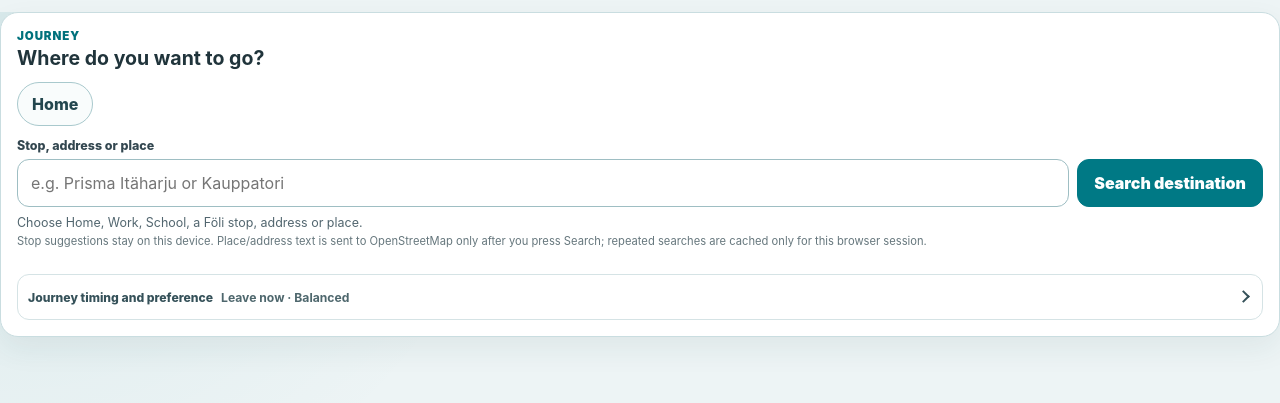
requires a destination value
Click the button "Search destination" at (1170, 183), box [1077,159,1263,207]
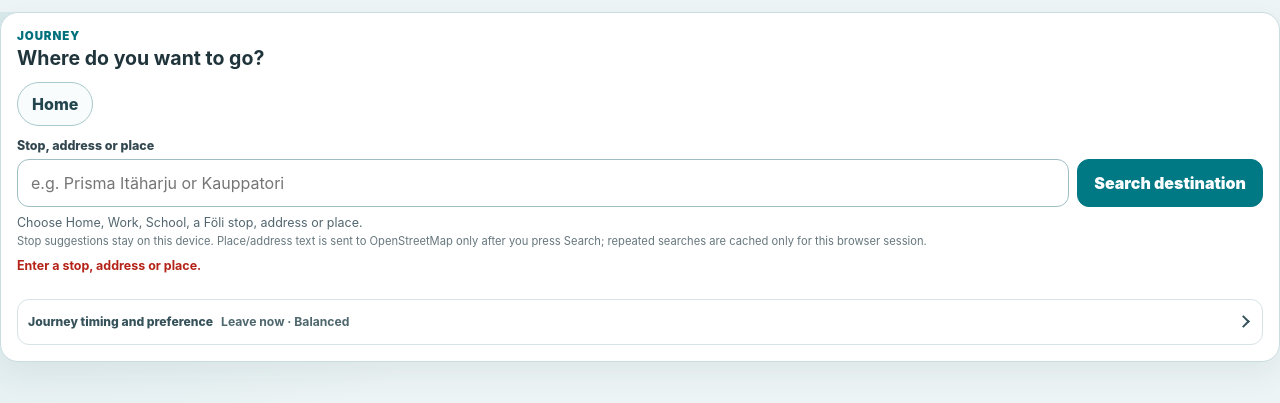
Now the message reads "Enter a stop, address or place.", box [17,258,201,273]
